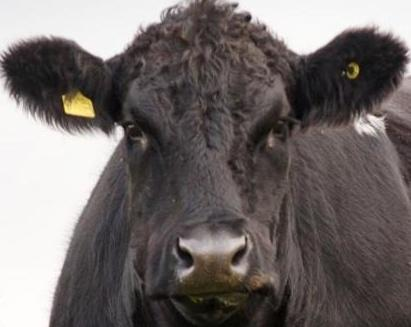muzzles: (166, 227, 251, 296)
